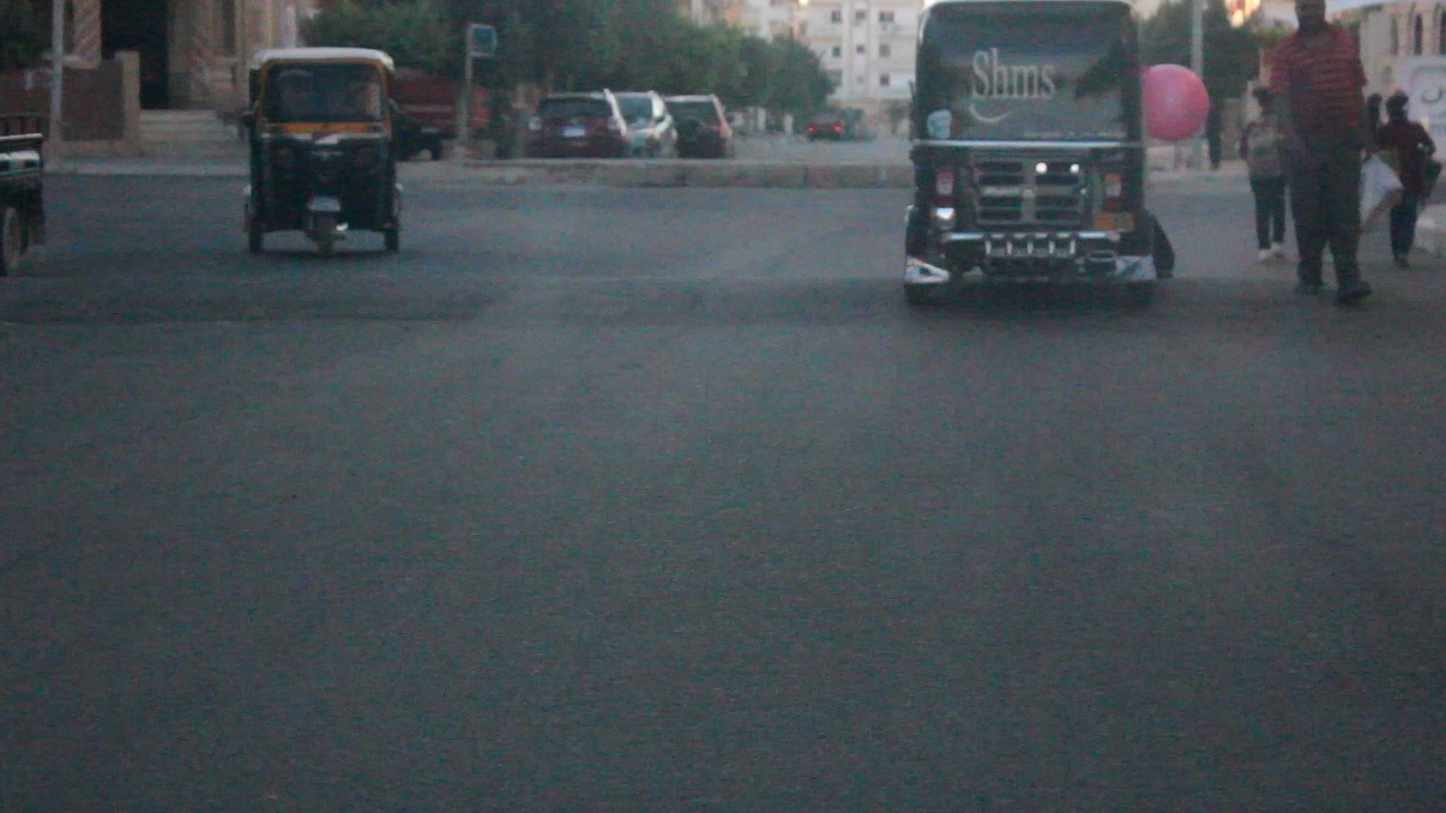Bump: (15, 256, 909, 326), (1160, 275, 1446, 329)
